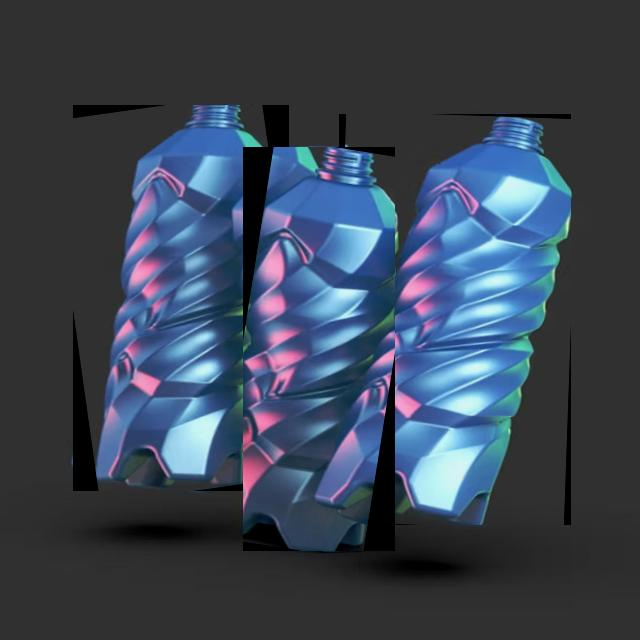Bottle: (339, 115, 569, 524), (72, 105, 288, 490), (243, 147, 393, 551)
